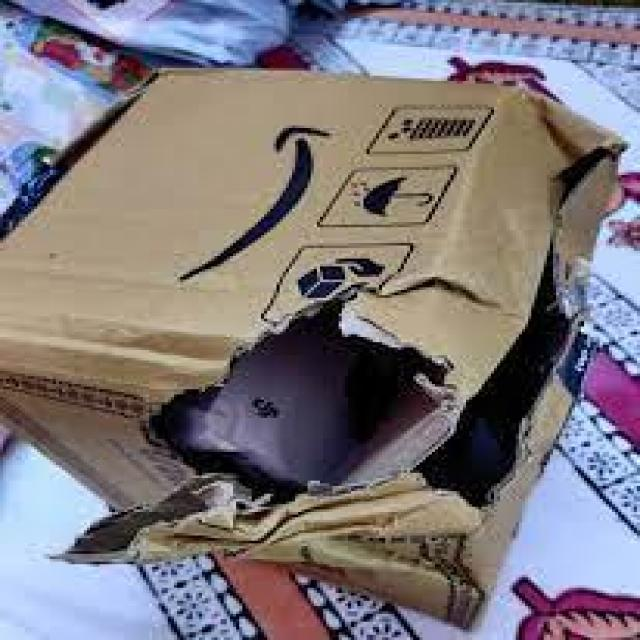damaged: (140, 136, 603, 546)
